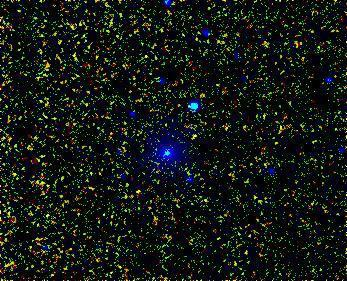star: (124, 172, 154, 202)
